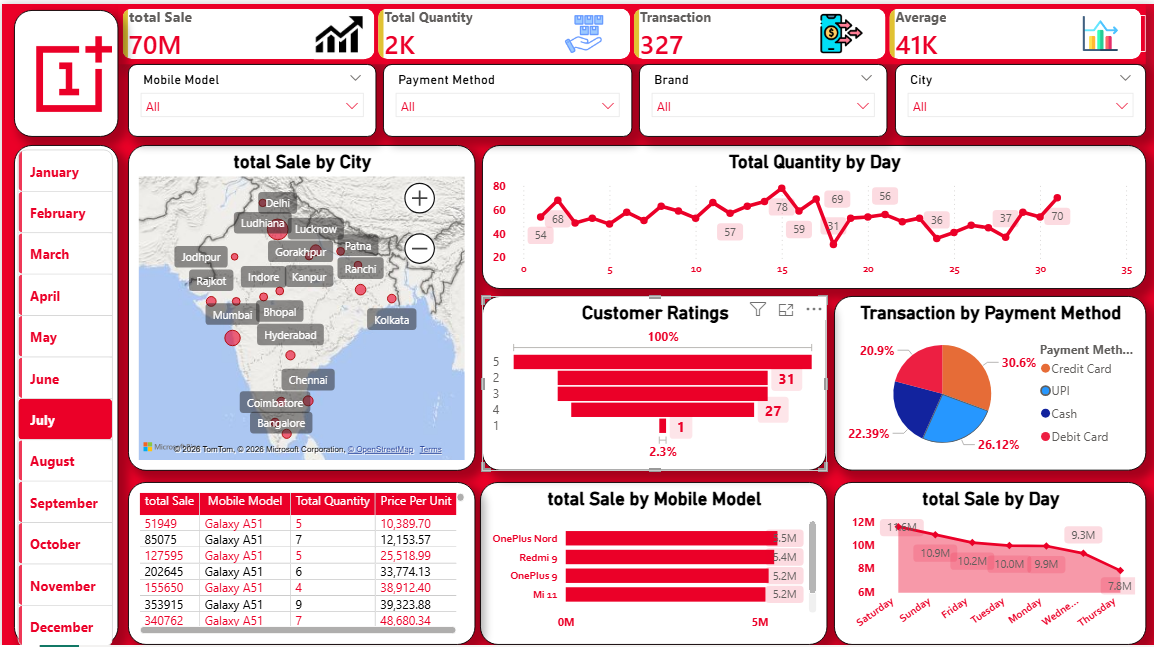

Layout of this report page (visuals, bound fields, positions):
{"tool":"powerbi","page":{"name":"Page 1","canvas":[1280,720],"ordinal":0},"visuals":[{"type":"cardVisual","fields":{"Data":["Sales Data.total sale","Sales Data.Total Quantity","Sales Data.Transaction","Sales Data.Average"]},"box":[128.9,0,1142.2,66.7],"z":0},{"type":"shape","box":[13.3,6.7,115.6,141.1],"z":1000},{"type":"image","box":[0,0,160,156.7],"z":2000},{"type":"shape","box":[13.3,156.7,115.6,555.6],"z":3000},{"type":"advancedSlicerVisual","fields":{"Values":["Sales Data.Date.Variation.Date Hierarchy.Month"]},"box":[12.2,156.7,116.7,563.3],"z":4000},{"type":"image","box":[1168.9,12.2,102.2,41.1],"z":5000},{"type":"image","box":[597.8,10,97.8,46.7],"z":6000},{"type":"image","box":[873.3,8.9,118.9,47.8],"z":7000},{"type":"image","box":[325.6,5.6,97.8,55.6],"z":8000},{"type":"map","fields":{"Category":["Sales Data.City"],"Size":["Sales Data.total Sale"]},"box":[140,156.7,385.6,362.2],"z":9000},{"type":"lineChart","fields":{"Y":["Sales Data.Total Quantity"],"Category":["Sales Data.Date.Variation.Date Hierarchy.Month","Sales Data.Date.Variation.Date Hierarchy.Day"]},"box":[533.3,156.7,737.8,160],"z":10000},{"type":"clusteredBarChart","fields":{"Category":["Sales Data.Mobile Model"],"Y":["Sales Data.total Sale"]},"box":[531.1,531.1,385.6,181.1],"z":11000},{"type":"pieChart","fields":{"Y":["Sales Data.Transaction"],"Category":["Sales Data.Payment Method"]},"box":[924.4,324.4,346.7,194.4],"z":12000},{"type":"funnel","title":" Customer Ratings ","fields":{"Category":["Sales Data.Customer Ratings"],"Y":["CountNonNull(Sales Data.Customer Ratings)"]},"box":[533.3,324.4,383.3,194.4],"z":13000},{"type":"areaChart","title":"total Sale by Day ","fields":{"Y":["Sales Data.total Sale"],"Category":["Sales Data.Day Name"]},"box":[924.4,531.1,346.7,181.1],"z":14000},{"type":"tableEx","fields":{"Values":["Sales Data.total Sale","Sales Data.Mobile Model","Sales Data.Total Quantity","Sales Data.Price Per Unit"]},"box":[140,531.1,385.6,181.1],"z":15000},{"type":"slicer","fields":{"Values":["Sales Data.Mobile Model"]},"box":[140,66.7,275.6,81.1],"z":16000},{"type":"slicer","fields":{"Values":["Sales Data.Payment Method"]},"box":[423.3,66.7,276.7,81.1],"z":17000},{"type":"slicer","fields":{"Values":["Sales Data.Brand"]},"box":[707.8,66.7,275.6,81.1],"z":18000},{"type":"slicer","fields":{"Values":["Sales Data.City"]},"box":[992.2,66.7,278.9,81.1],"z":19000}]}

Visuals, with their boxes in screenshot pixels (x1, y1, x2, y2), scaled from the page's 1280x720 canvas onto the 1154x647 screenshot:
cardVisual - Sales Data.total sale x Sales Data.Total Quantity: <region>116, 0, 1146, 60</region>
shape: <region>12, 6, 116, 133</region>
image: <region>0, 0, 144, 141</region>
shape: <region>12, 141, 116, 640</region>
advancedSlicerVisual - Sales Data.Date.Variation.Date Hierarchy.Month: <region>11, 141, 116, 646</region>
image: <region>1054, 11, 1146, 48</region>
image: <region>539, 9, 627, 51</region>
image: <region>787, 8, 895, 51</region>
image: <region>294, 5, 382, 55</region>
map - Sales Data.City x Sales Data.total Sale: <region>126, 141, 474, 466</region>
lineChart - Sales Data.Total Quantity x Sales Data.Date.Variation.Date Hierarchy.Month: <region>481, 141, 1146, 285</region>
clusteredBarChart - Sales Data.Mobile Model x Sales Data.total Sale: <region>479, 477, 826, 640</region>
pieChart - Sales Data.Transaction x Sales Data.Payment Method: <region>833, 292, 1146, 466</region>
" Customer Ratings " funnel: <region>481, 292, 826, 466</region>
"total Sale by Day " areaChart: <region>833, 477, 1146, 640</region>
tableEx - Sales Data.total Sale x Sales Data.Mobile Model: <region>126, 477, 474, 640</region>
slicer - Sales Data.Mobile Model: <region>126, 60, 375, 133</region>
slicer - Sales Data.Payment Method: <region>382, 60, 631, 133</region>
slicer - Sales Data.Brand: <region>638, 60, 887, 133</region>
slicer - Sales Data.City: <region>895, 60, 1146, 133</region>
